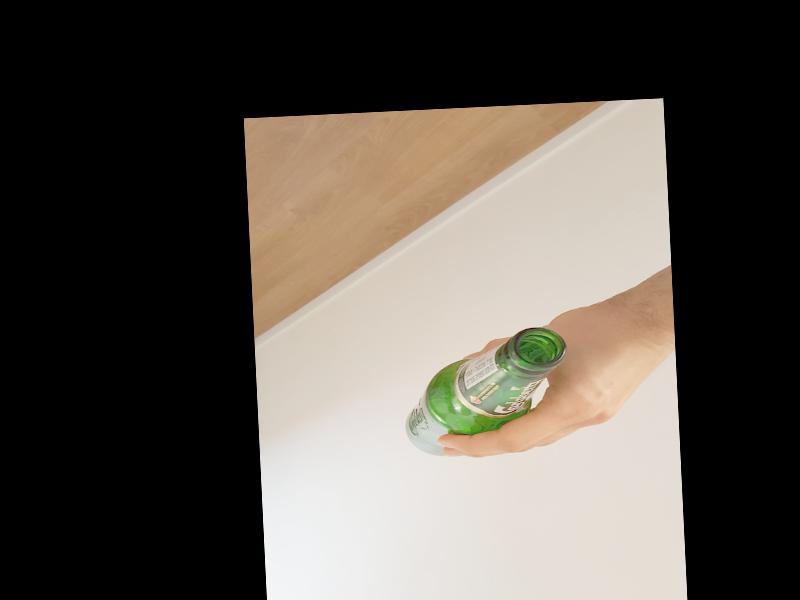Beer: (401, 323, 572, 456)
